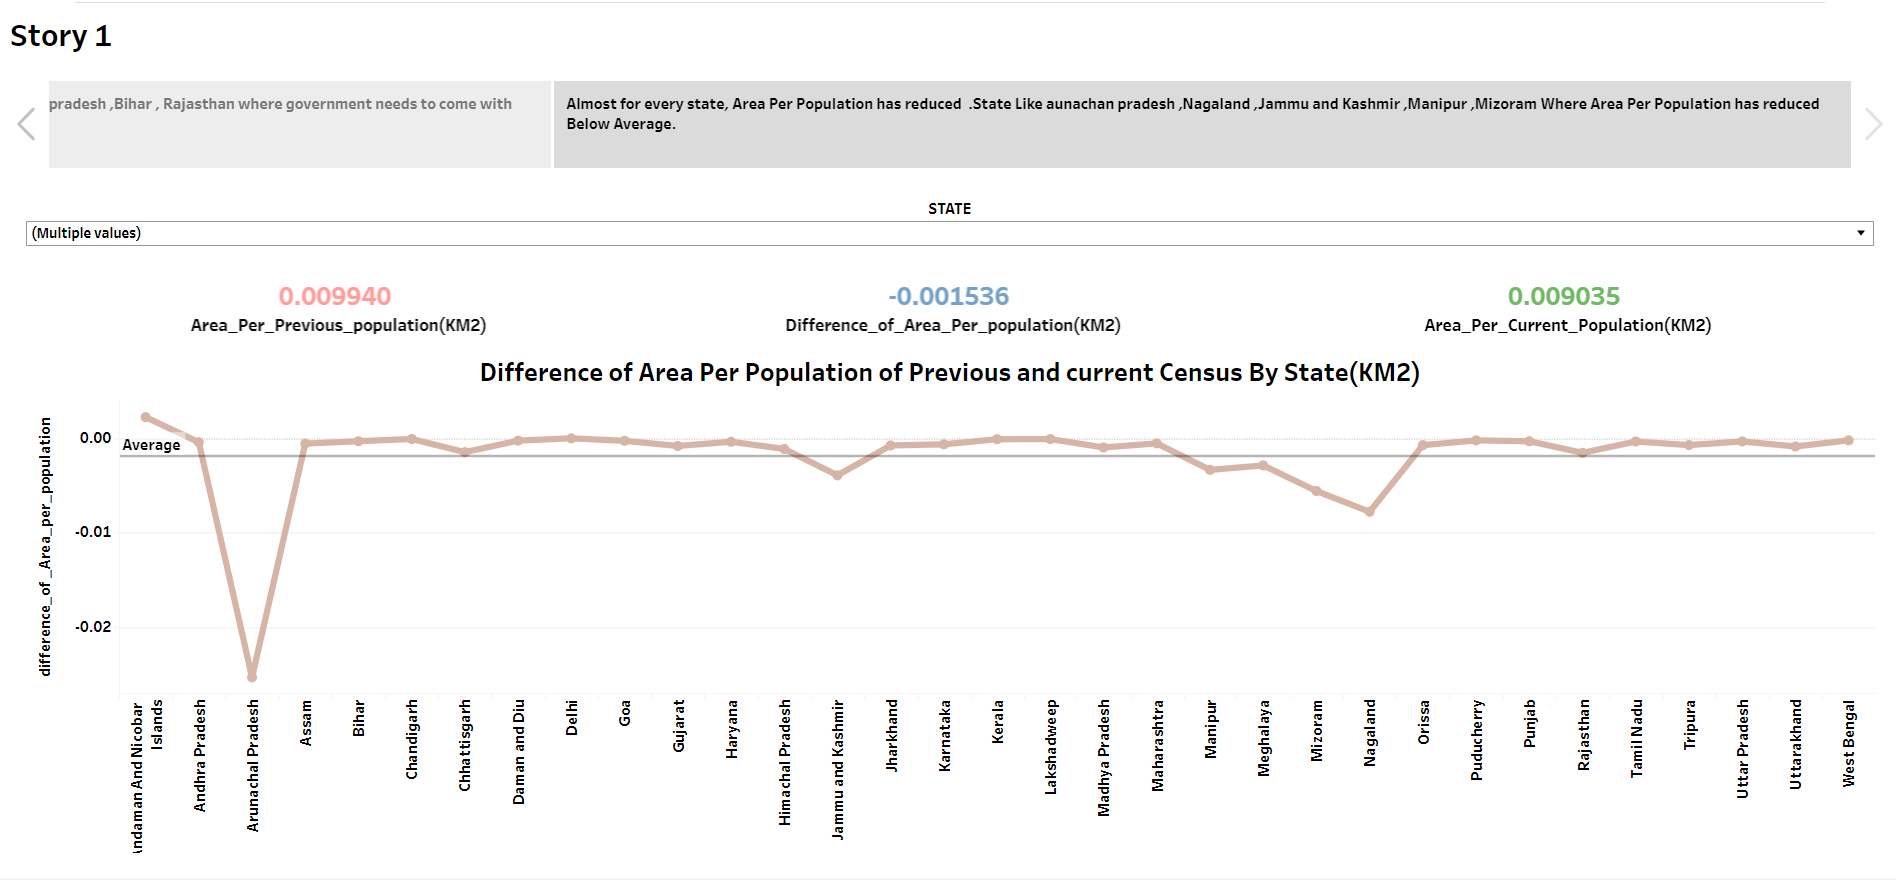

Layout of this report page (visuals, bound fields, positions):
{"tool":"tableau","page":{"name":"AreaPerPolationDashboard","canvas":[1000,1000],"units":"permille","ordinal":0},"visuals":[{"type":"filter","title":"AreaPerPopulation","param":"[federated.0mf94v00vrsod40zzekrg1021kdq].[none:State:nk]","box":[4.8,9.4,990.5,71.7]},{"type":"worksheet","title":"areapercpreviouspopulation ","mark":"Automatic","box":[4.8,97.5,334.7,132.8]},{"type":"worksheet","title":"Difference_of_area_of_population","mark":"Automatic","box":[339.4,97.5,319.3,132.8]},{"type":"worksheet","title":"areapercurrentpopulation","mark":"Automatic","box":[658.7,97.5,336.5,132.8]},{"type":"worksheet","title":"AreaPerPopulation","mark":"Line","rows":["Calculation_998110295647711240"],"cols":["State"],"box":[4.8,230.3,990.5,760.3]}]}

Visuals, with their boxes on the dashboard's canvas, which has no fixed pixel size, in thousandths of its width and height (x1, y1, x2, y2). These are canvas units, not pixel positions in the 1896x880 screenshot, which may show the page scaled, cropped or inside an application window:
"AreaPerPopulation" filter: 5 9 995 81
"areapercpreviouspopulation " worksheet: 5 98 340 230
"Difference_of_area_of_population" worksheet: 339 98 659 230
"areapercurrentpopulation" worksheet: 659 98 995 230
"AreaPerPopulation" worksheet (Line marks): 5 230 995 991
